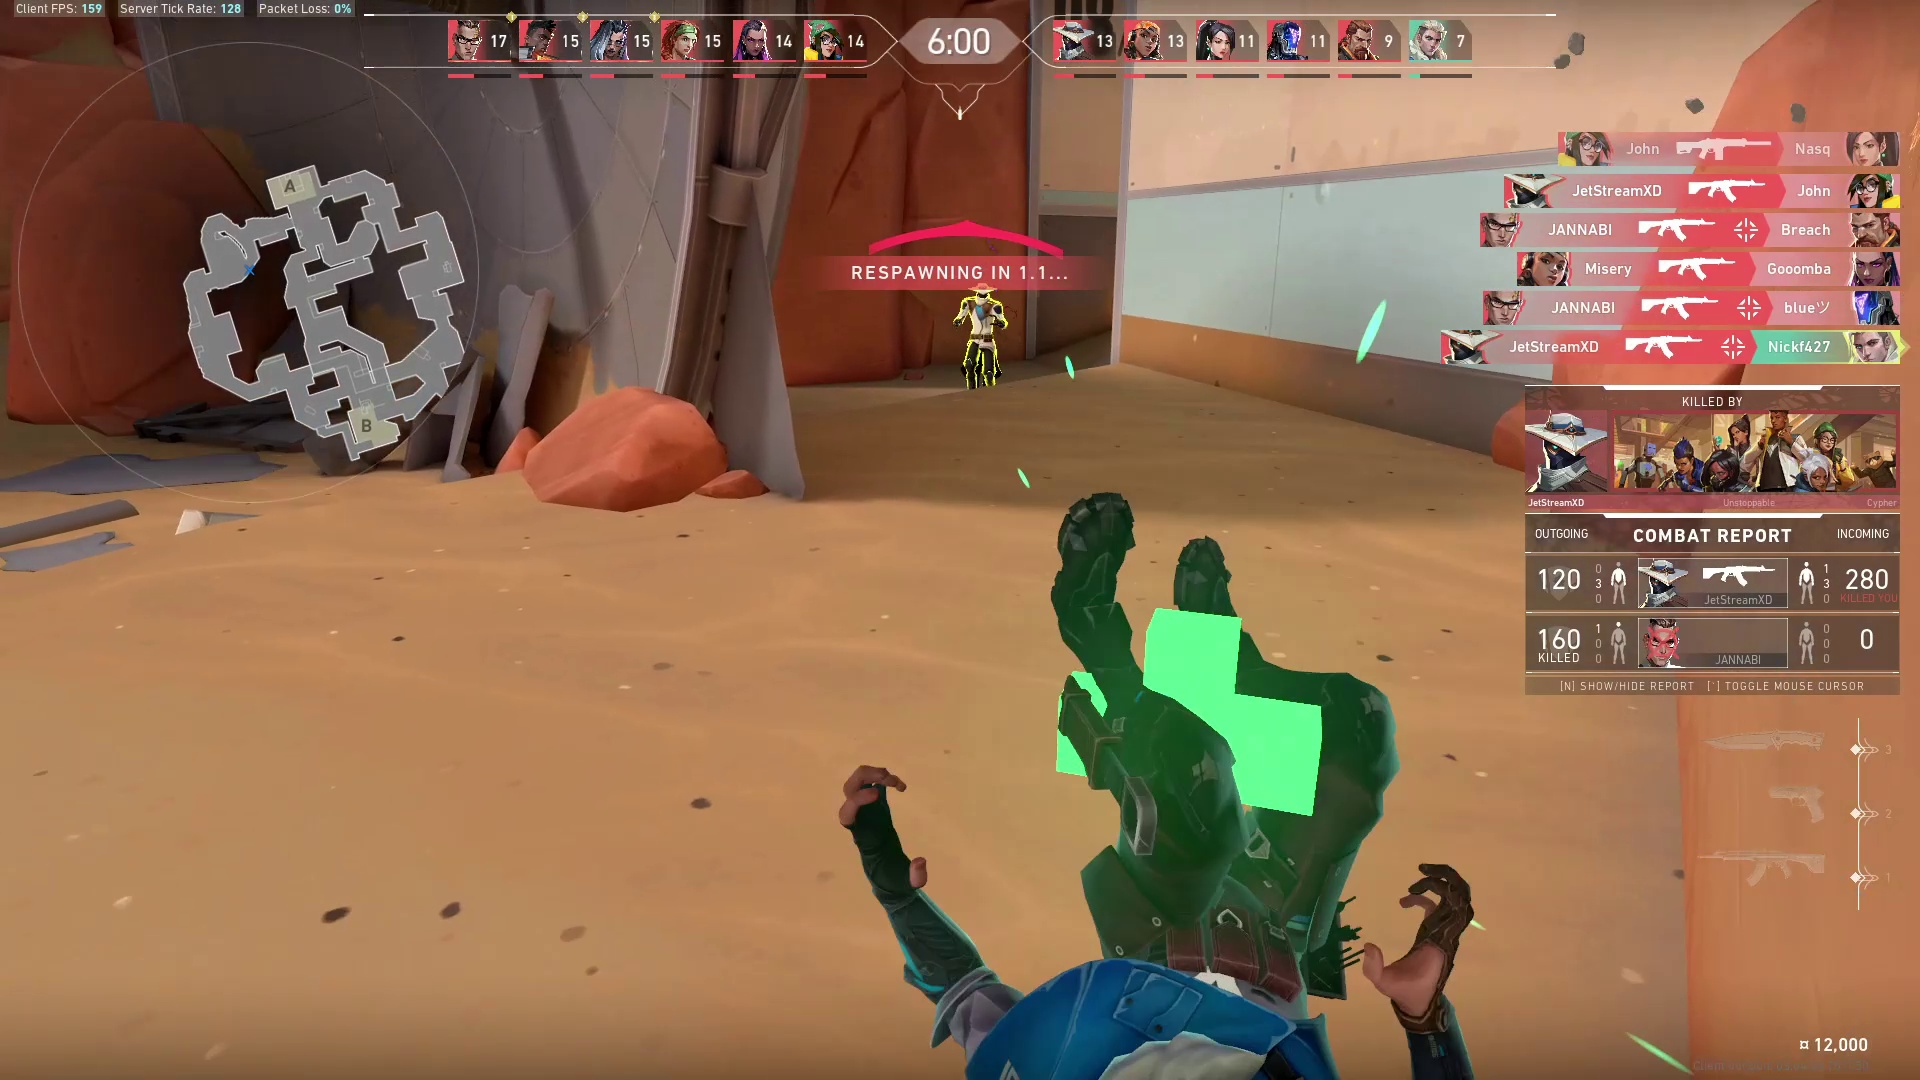enemy_body: (953, 295, 1012, 390)
enemy_head: (965, 277, 1000, 299)
